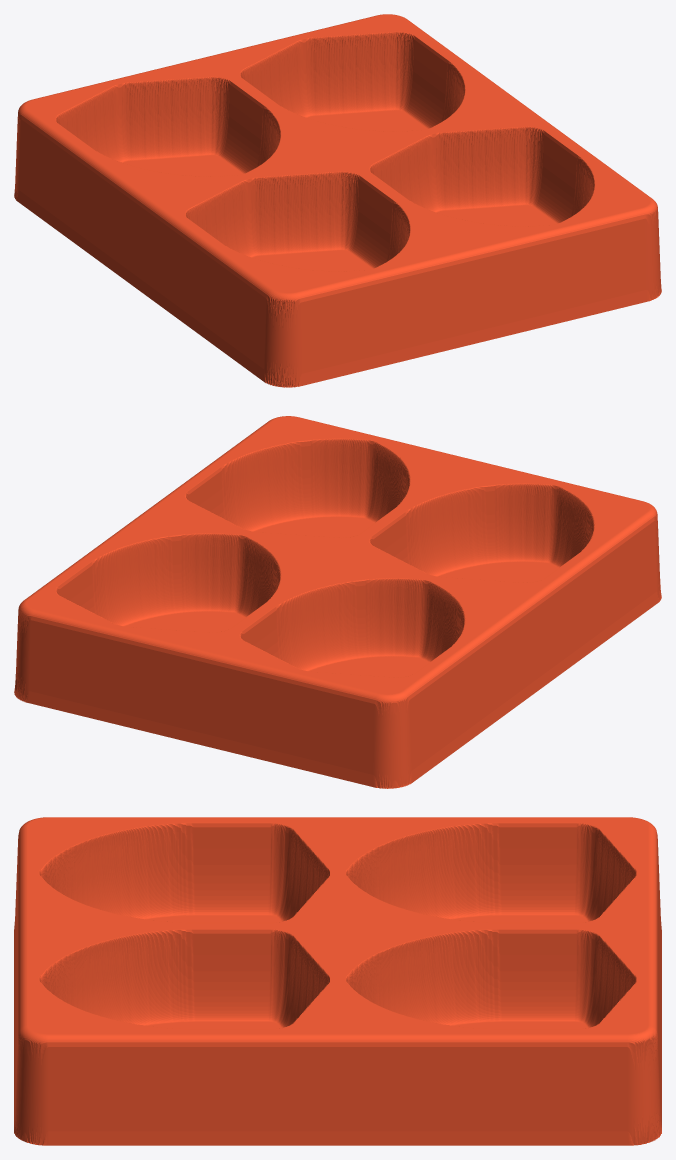
The model's file is mold.glb.
3 views of the same model, one above another, from view 1: azimuth 30°, elevation 25°; view 2: azimuth 150°, elevation 25°; view 3: azimuth 270°, elevation 25° (orthographic). The views are drawn at different scales.
Parts seen in each view (by area): view 1: geometry_0; view 2: geometry_0; view 3: geometry_0.
Part boxes in pixels (bbox=[...]): geometry_0: bbox=[14, 14, 661, 387]; geometry_0: bbox=[14, 416, 661, 788]; geometry_0: bbox=[14, 817, 661, 1145].
Bounding box in the file's own units: 0.1431 × 0.031 × 0.1721.
